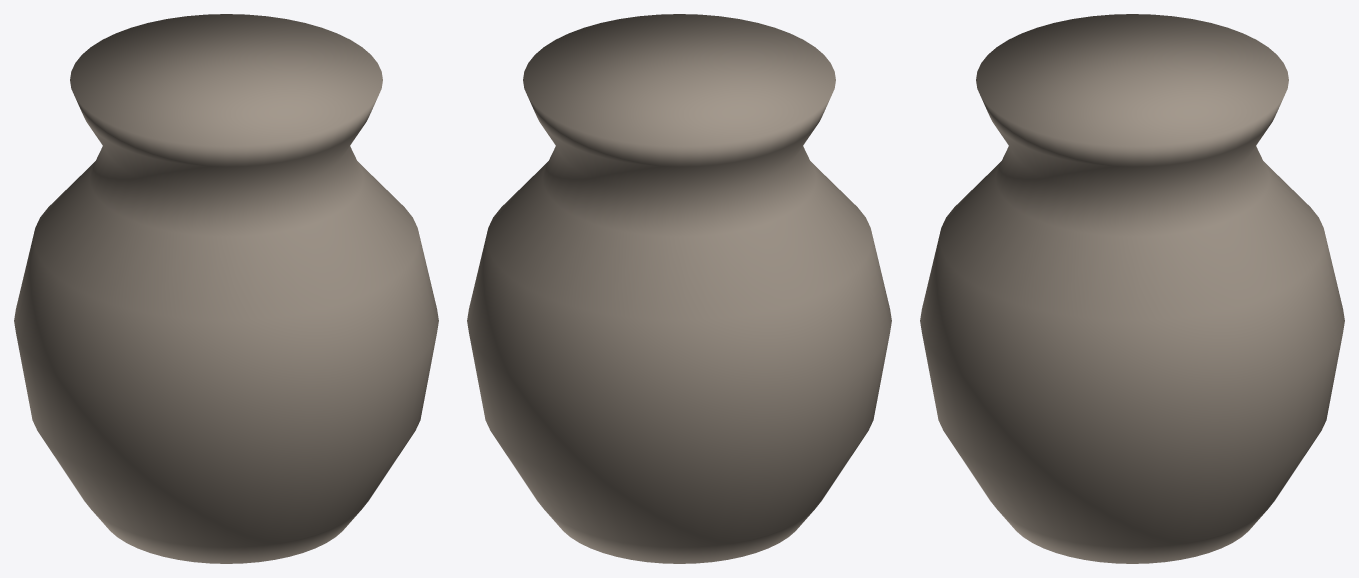
Rendered from recipient.glb.
3 views of the same model, side by side, from view 1: azimuth 30°, elevation 25°; view 2: azimuth 150°, elevation 25°; view 3: azimuth 270°, elevation 25° (orthographic).
Visible parts, largest first — view 1: Récipient rituel; view 2: Récipient rituel; view 3: Récipient rituel.
Boxes of the visible parts, left/top/right/bottom form: Récipient rituel: left=14, top=14, right=438, bottom=563; Récipient rituel: left=467, top=14, right=891, bottom=563; Récipient rituel: left=920, top=14, right=1344, bottom=563.
Bounding box in the file's own units: 0.304 × 0.34 × 0.304.
